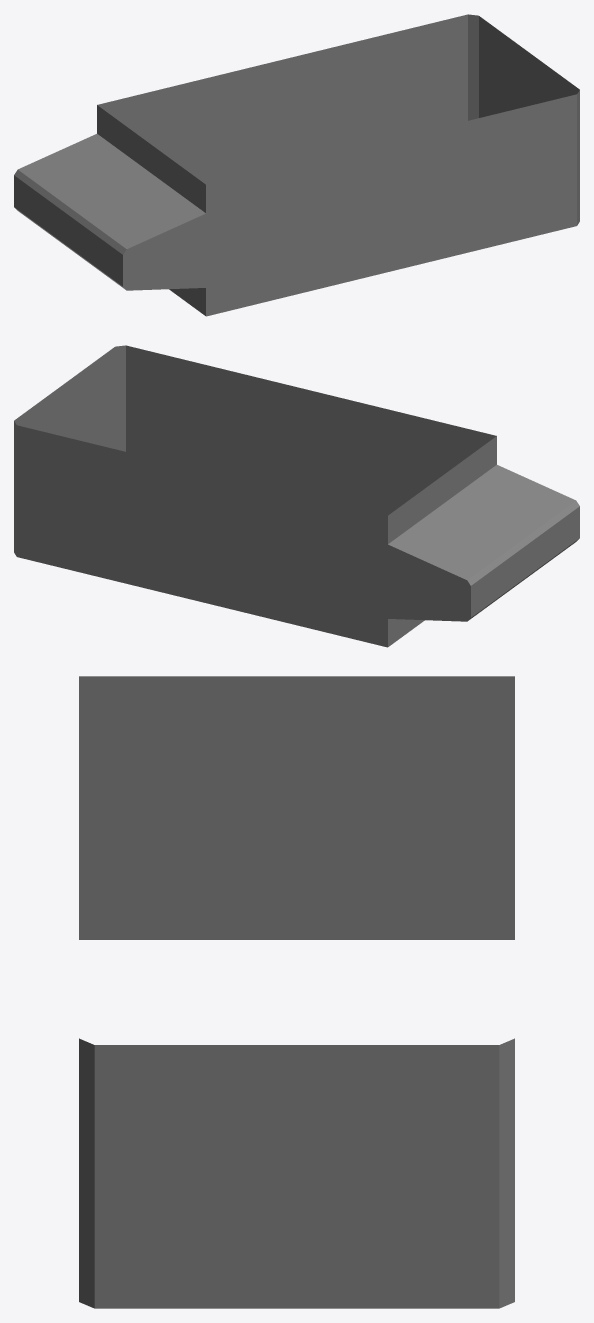
Rendered from lackB01.fbx.
The picture shows the model from 3 angles, top to bottom: view 1: azimuth 30°, elevation 25°; view 2: azimuth 150°, elevation 25°; view 3: azimuth 270°, elevation 25°; orthographic projection. The views are drawn at different scales.
Parts seen in each view (by area): view 1: polySurface5; view 2: polySurface5; view 3: polySurface5.
Part boxes in pixels (<box>): polySurface5: <box>14,14,579,316</box>; polySurface5: <box>14,345,579,647</box>; polySurface5: <box>79,676,514,1308</box>.
Size of the model in its own units: 1.22 by 0.3333 by 0.5.
1 material, 1 textured.
